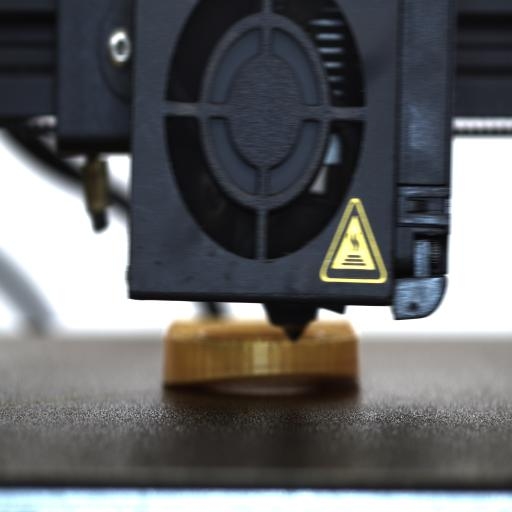warp: (162, 358, 357, 396)
